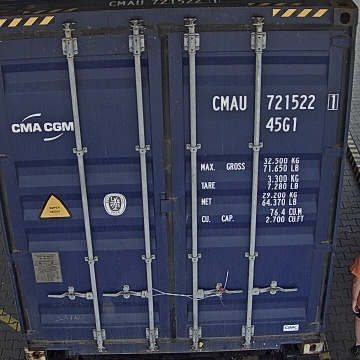serial_id: (213, 93, 338, 110)
